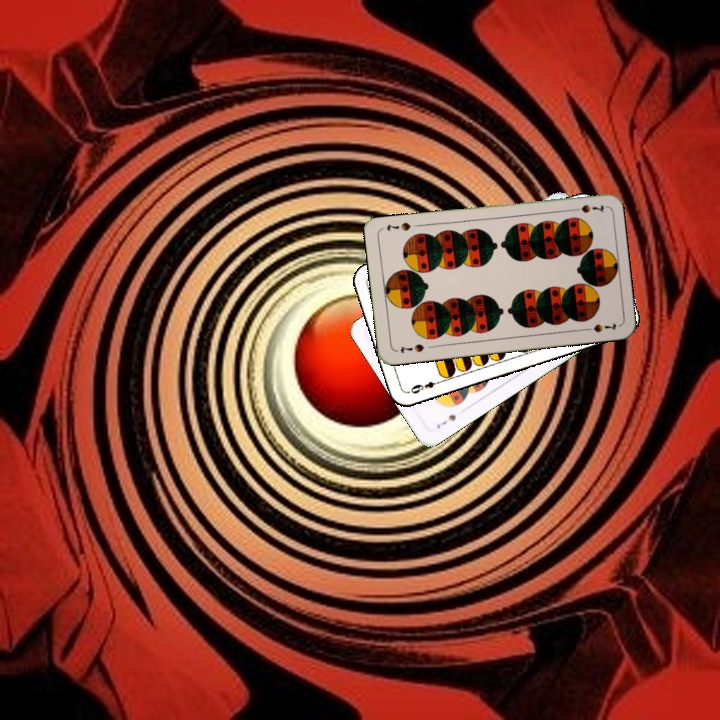E9: (407, 376, 445, 396)
S7: (566, 200, 607, 215), (432, 410, 459, 432), (397, 340, 427, 356)
